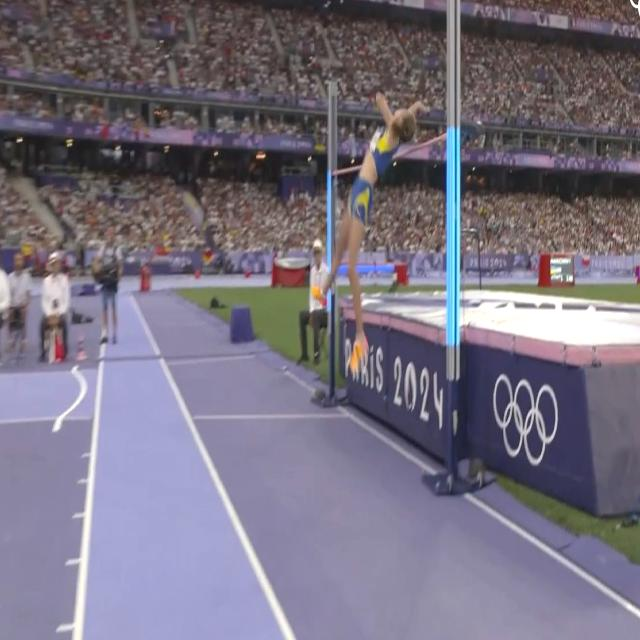jump: (308, 89, 432, 374)
